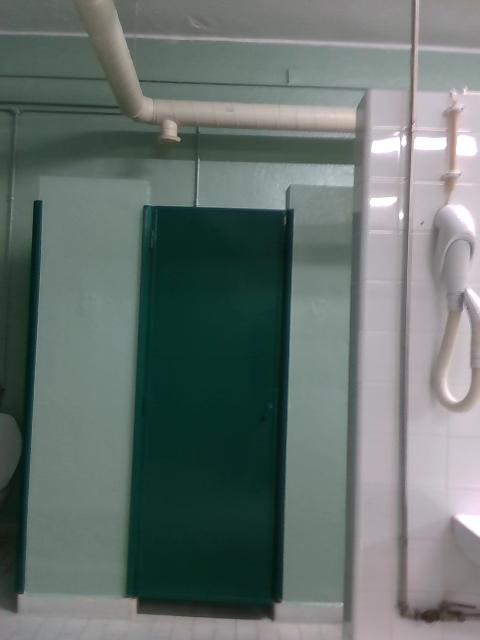door: (146, 206, 291, 604)
